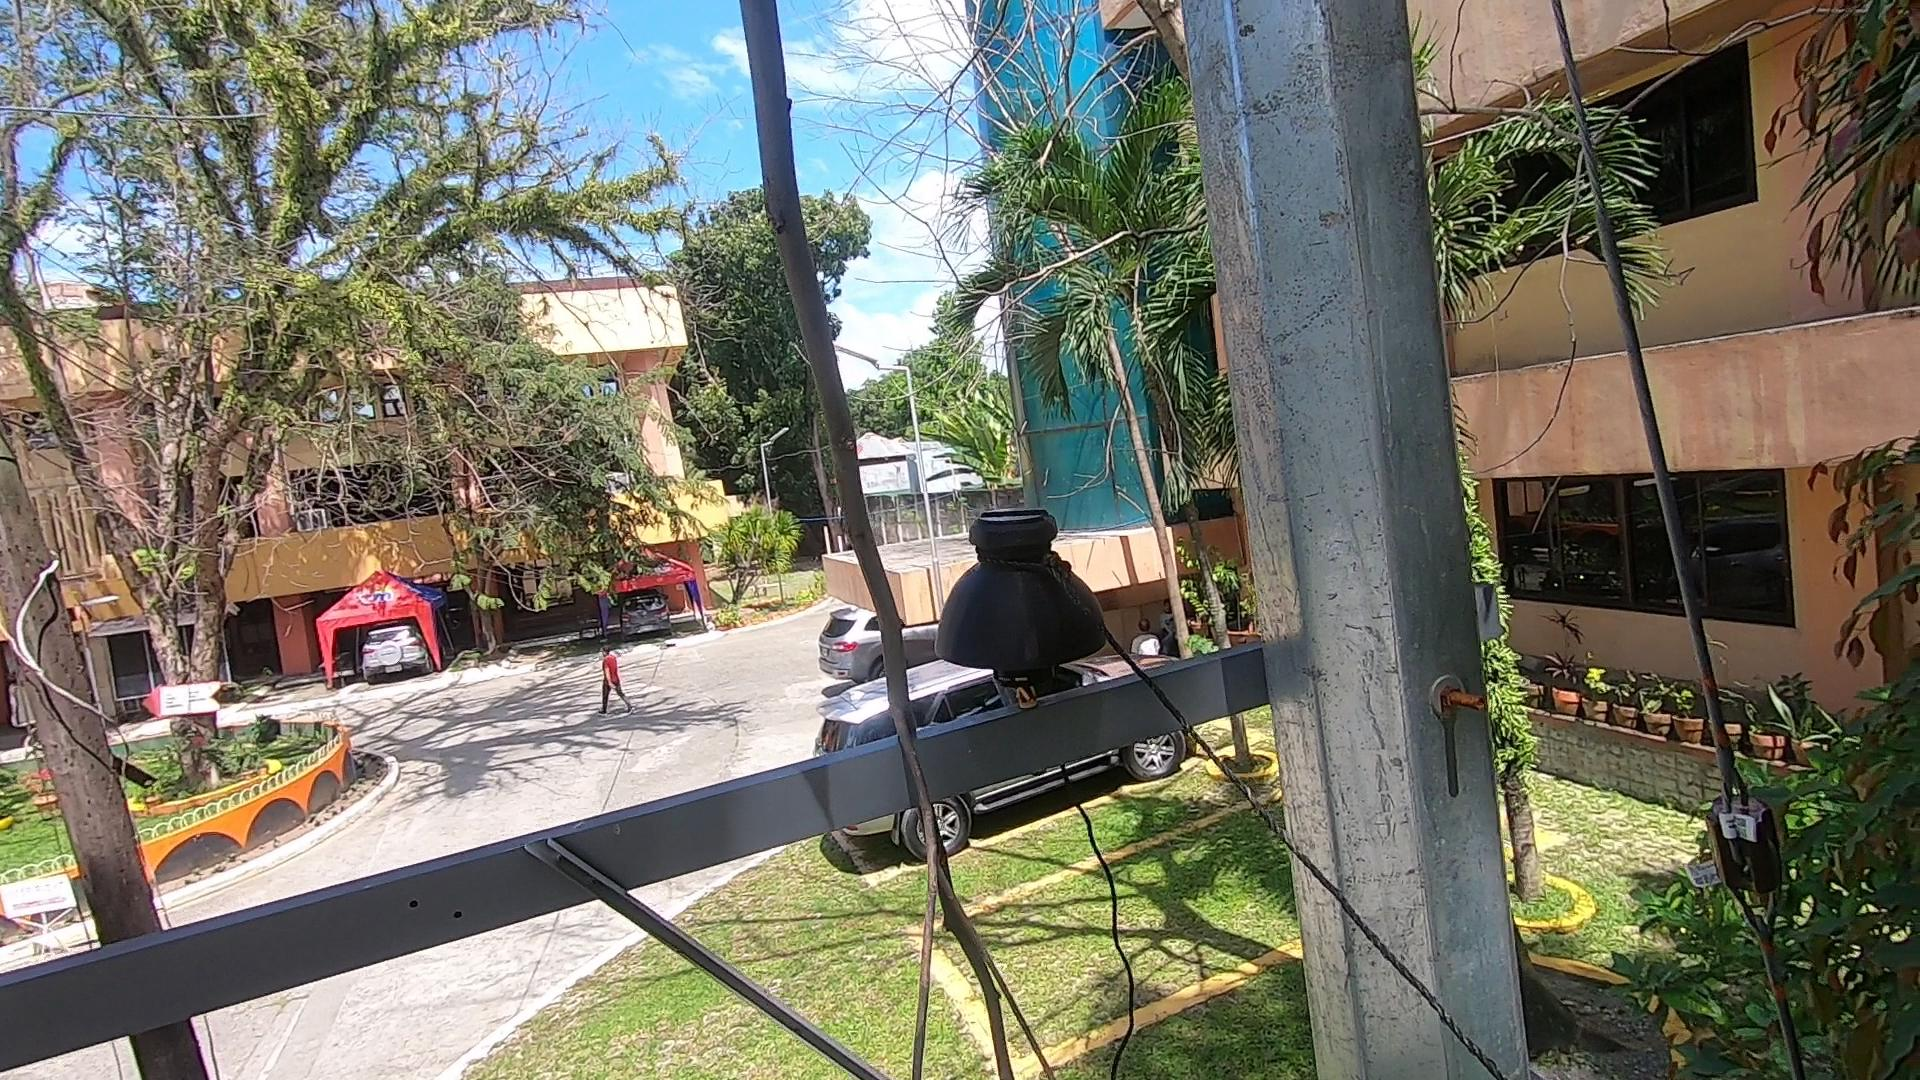tree branch: (676, 3, 1088, 1077)
